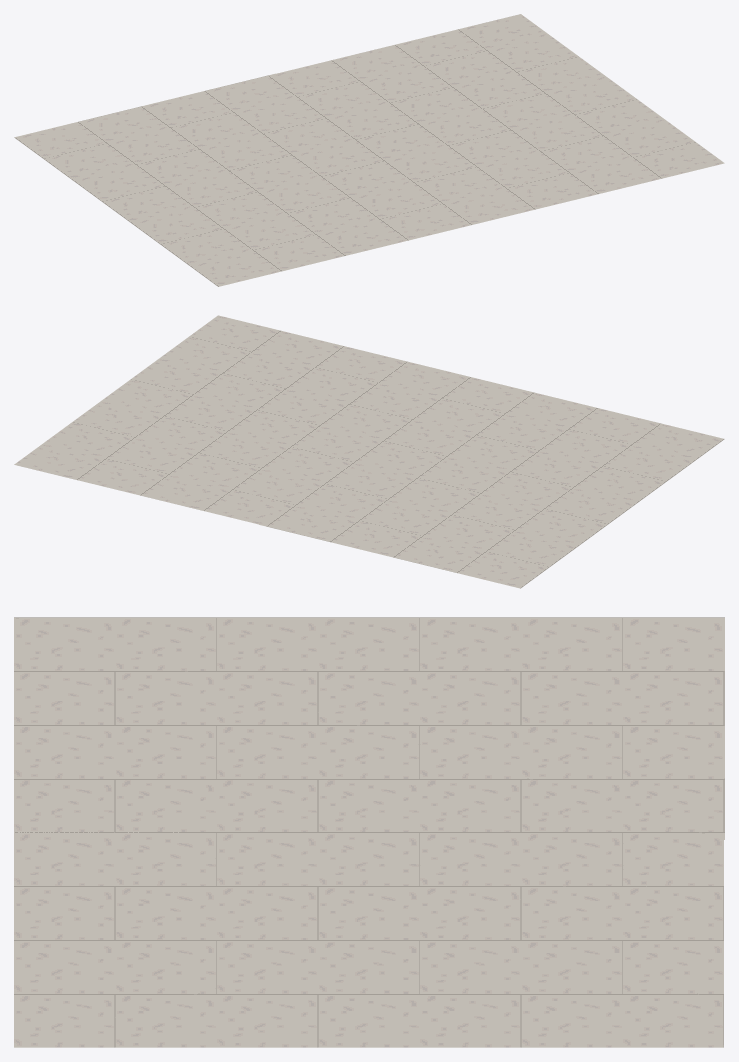
The model's file is kd_stage_135ded_4_32_exterior.glb.
3 views of the same model, one above another, from view 1: azimuth 30°, elevation 25°; view 2: azimuth 150°, elevation 25°; view 3: azimuth 270°, elevation 25° (orthographic). The views are drawn at different scales.
Parts seen in each view (by area): view 1: kd_stage_135ded_4_32_exterior; view 2: kd_stage_135ded_4_32_exterior; view 3: kd_stage_135ded_4_32_exterior.
Part boxes in pixels (box(x1,y1,x2,y2)): kd_stage_135ded_4_32_exterior: box(14, 14, 724, 286); kd_stage_135ded_4_32_exterior: box(14, 315, 724, 588); kd_stage_135ded_4_32_exterior: box(14, 617, 724, 1047).
Bounding box in the file's own units: 4.5 × 1.19e-07 × 3.14.
1 material, 1 textured.
